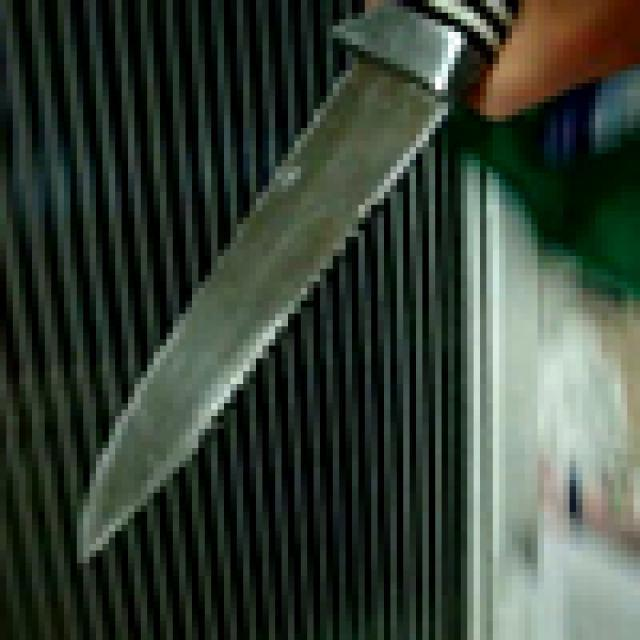Knife: (83, 0, 512, 557)
